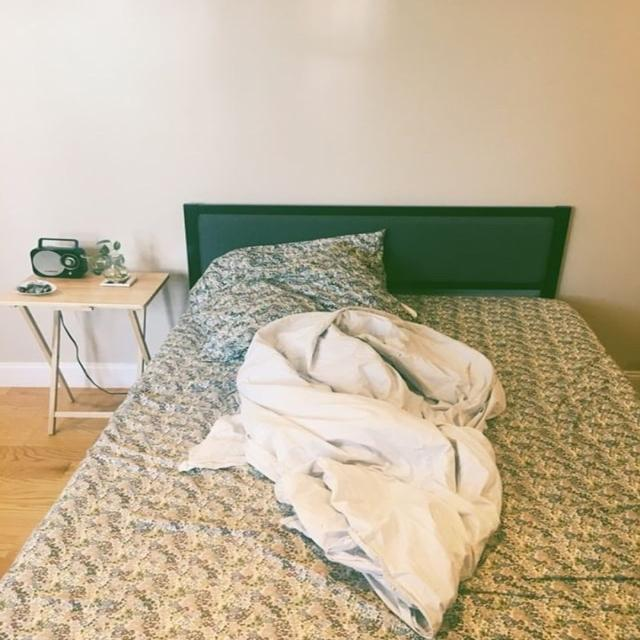bed: (155, 195, 617, 640)
